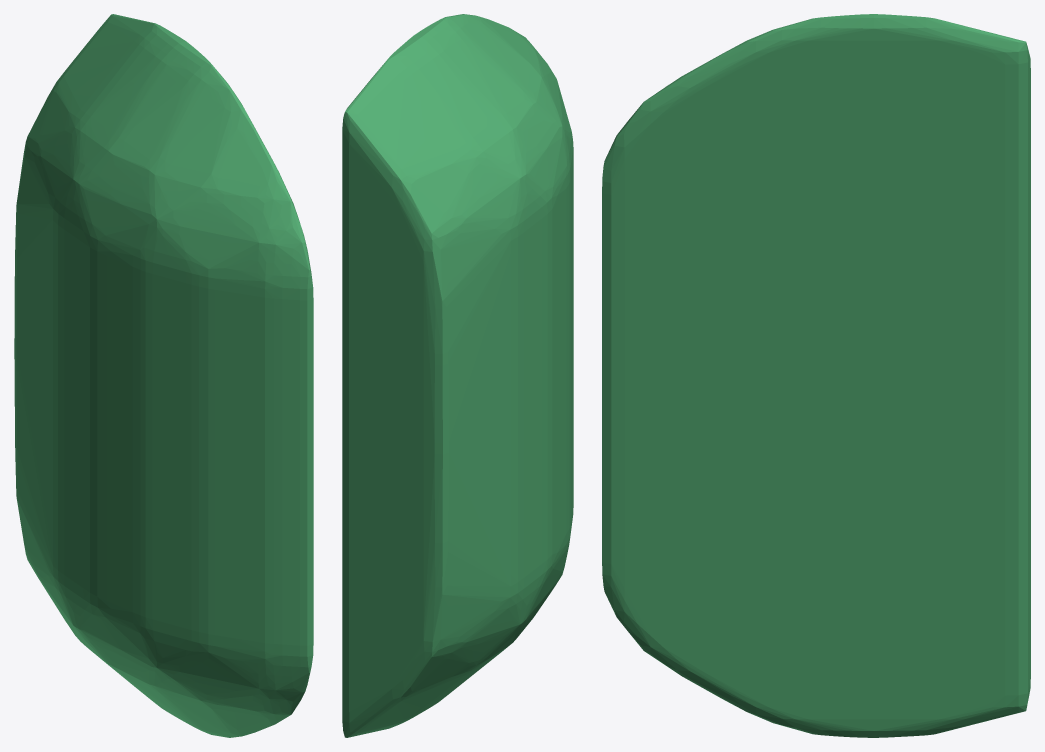
The model's file is left_th_middle_part_3.obj.
The picture shows the model from 3 angles, left to right: view 1: azimuth 30°, elevation 25°; view 2: azimuth 150°, elevation 25°; view 3: azimuth 270°, elevation 25°; orthographic projection. The views are drawn at different scales.
Bounding box in the file's own units: 3.94 × 21.1 × 11.39.
